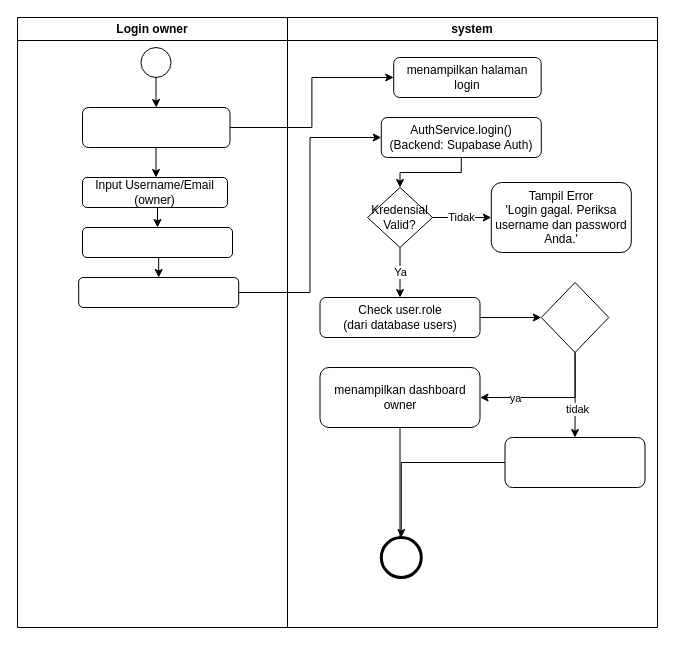
Image size: 675x645. Some labels were removed from this diagram. The centre of each missing label's shape, as x and y in pixels:
Buka Halaman Login (/login): the point at 156,127
Input Password: the point at 157,242
Klik 'Sign In to Dashboard': the point at 158,292
Redirect ke Dashboard sesuai role (kasir/kurir): the point at 574,462
Role = owner?: the point at 574,317
